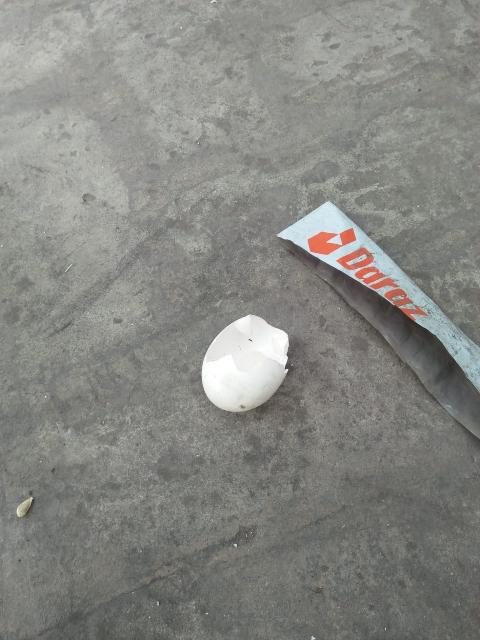Roto: (200, 313, 290, 413)
